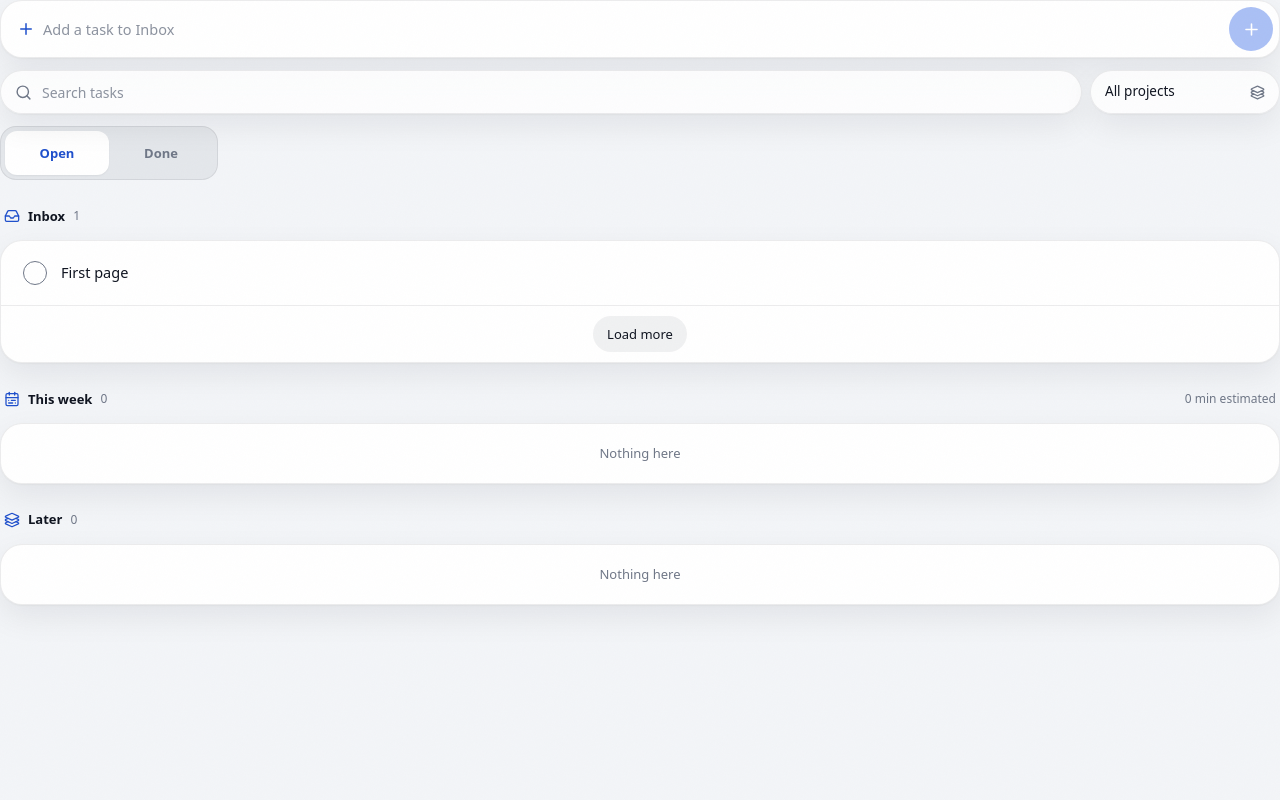
Test case: TasksPage V2 › loads the next server page into its group
The image size is (1280, 800).
Expected: the text "First page" is shown, [61,262,128,282]
Click the button "Load more" at (640, 334), box [593,316,687,352]
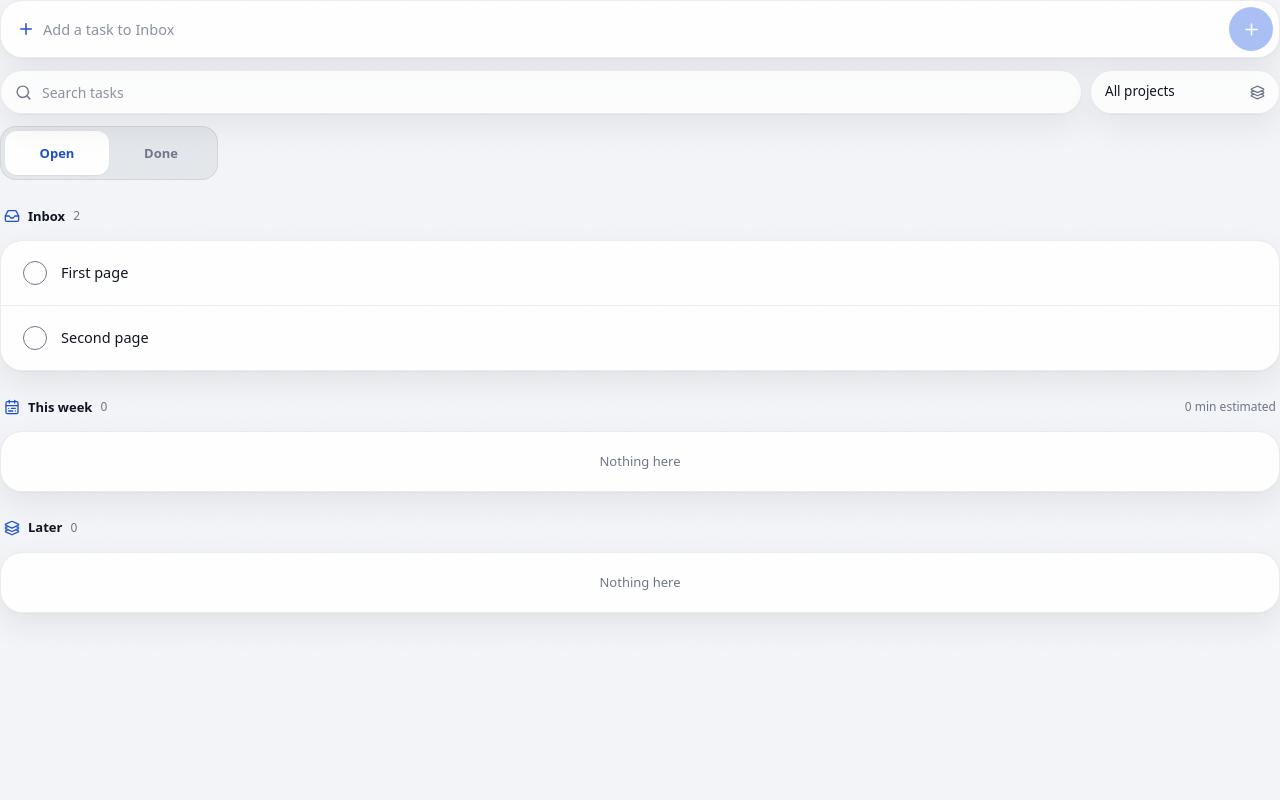
Expected: the text "Second page" is shown, [61,327,149,347]
